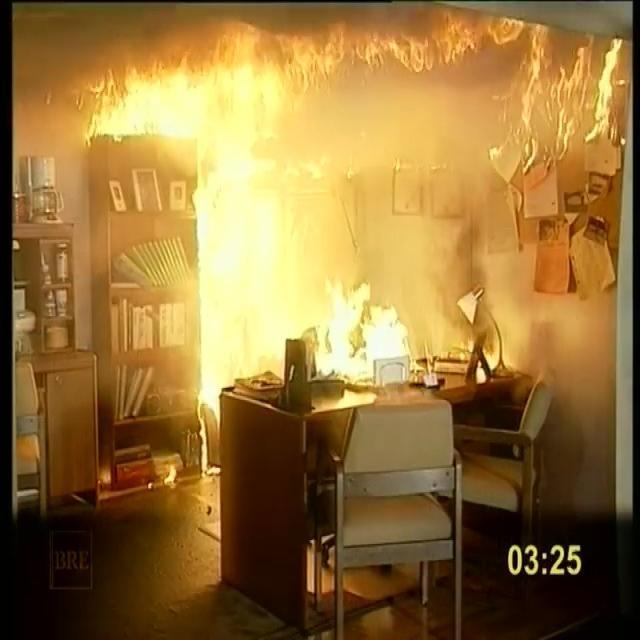Fire: (77, 15, 628, 417)
